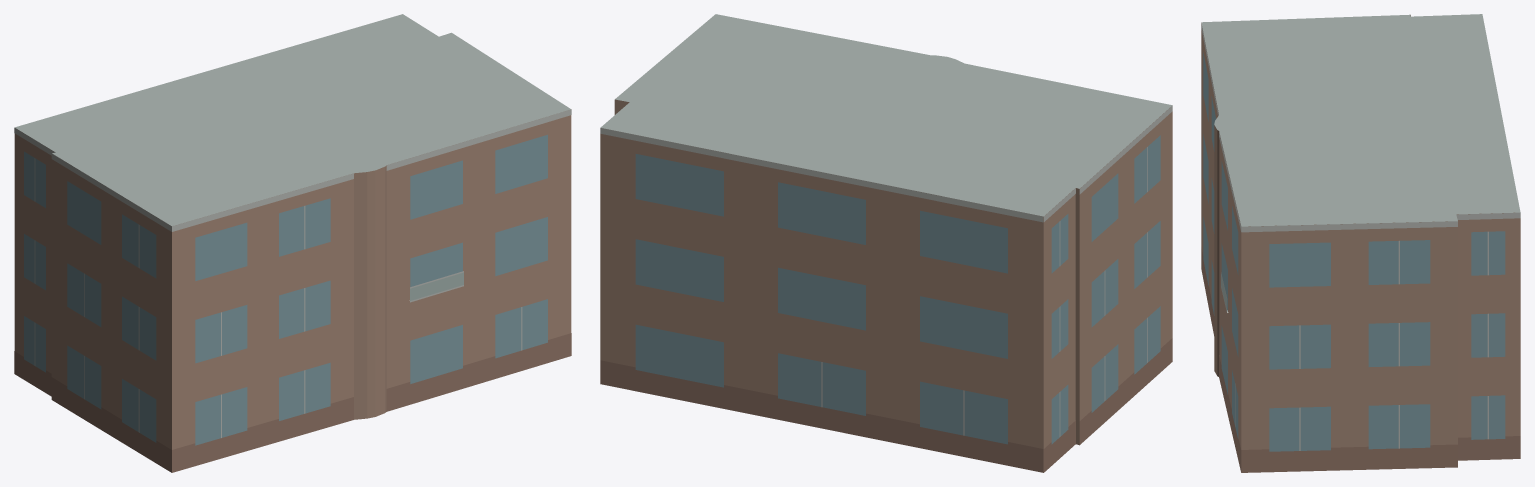
Rendered from survey-upis-32757689.glb.
The picture shows the model from 3 angles, left to right: view 1: azimuth 30°, elevation 25°; view 2: azimuth 150°, elevation 25°; view 3: azimuth 270°, elevation 25°; orthographic projection. The views are drawn at different scales.
Parts seen in each view (by area): view 1: survey-upis-32757689.tmp; view 2: survey-upis-32757689.tmp; view 3: survey-upis-32757689.tmp.
Boxes of the visible parts, x1,y1,x2,y2 form: survey-upis-32757689.tmp: (14,14,571,472); survey-upis-32757689.tmp: (600,14,1172,472); survey-upis-32757689.tmp: (1201,14,1520,472).
Size of the model in its own units: 19.45 by 10.5 by 12.35.
